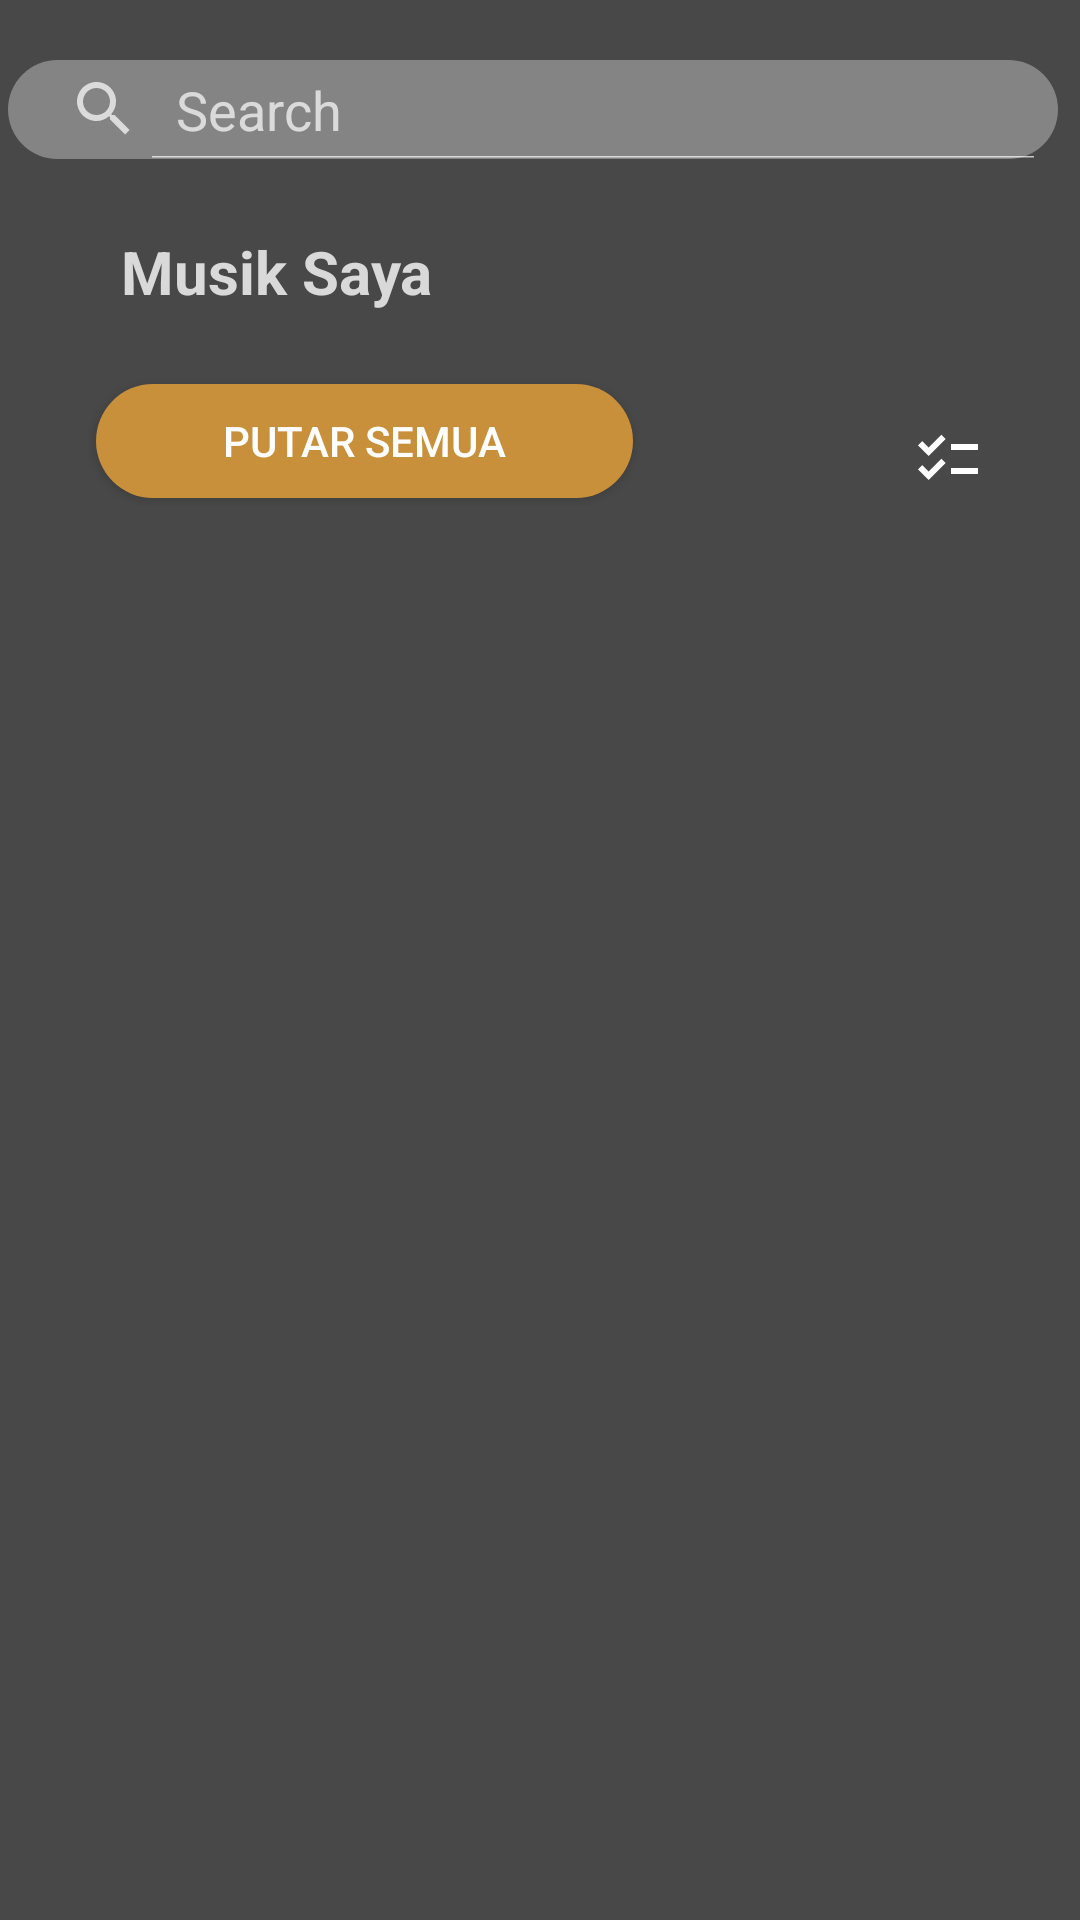

Screen size 1080 × 1920. Icon name, then its box in pixels as {"left": x1, "top": y1, "right": x2, "bottom": y2}:
checklist: {"left": 918, "top": 435, "right": 978, "bottom": 480}
